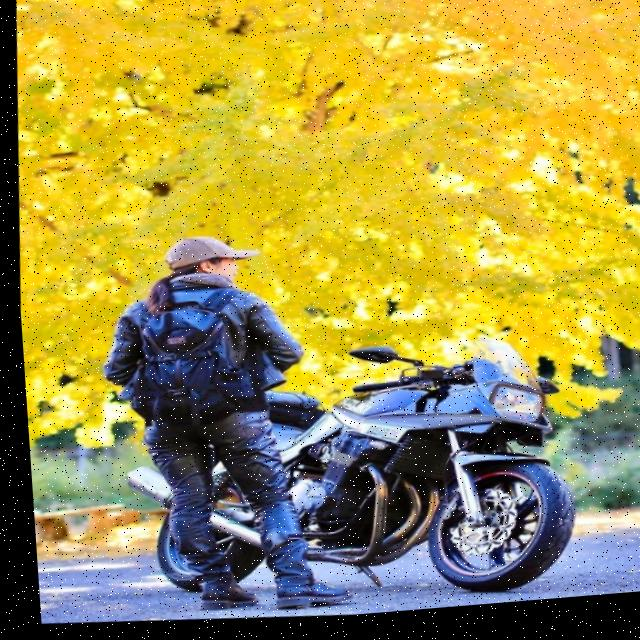illegal_helmet: (152, 229, 262, 295)
